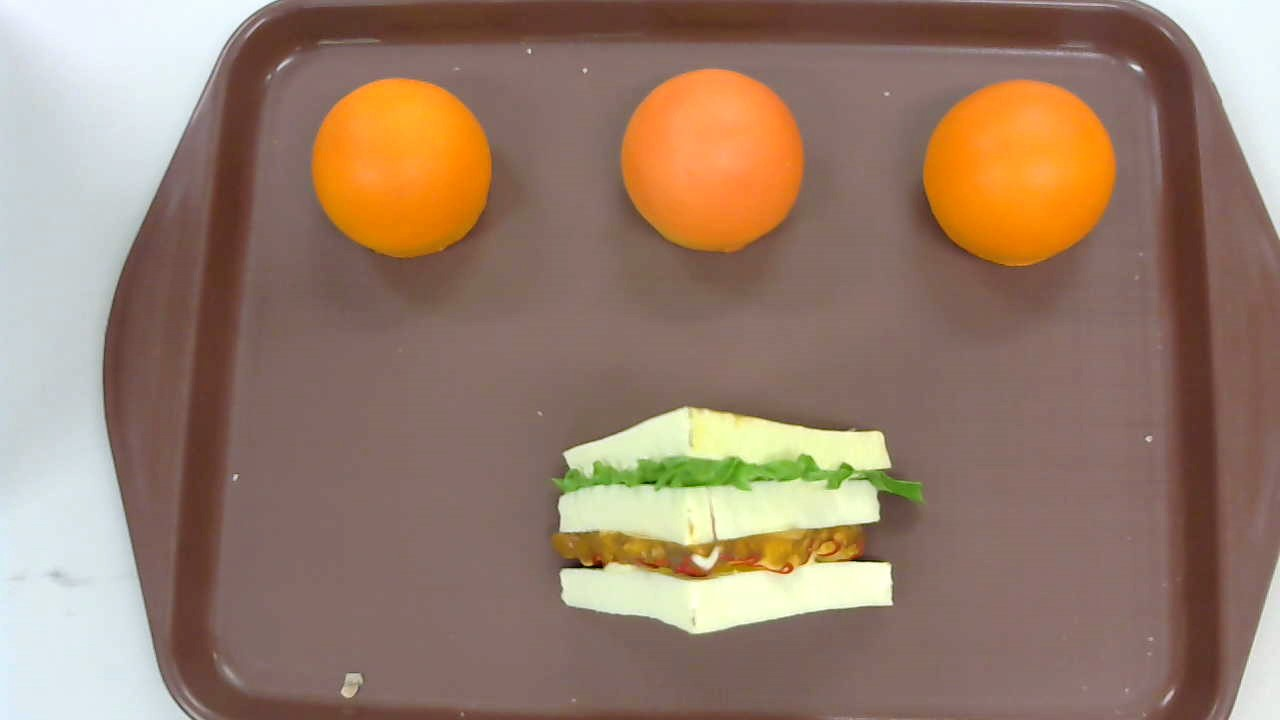bun: (923, 79, 1116, 268), (619, 67, 804, 253), (311, 77, 492, 259)
sandwich: (552, 403, 923, 637)
